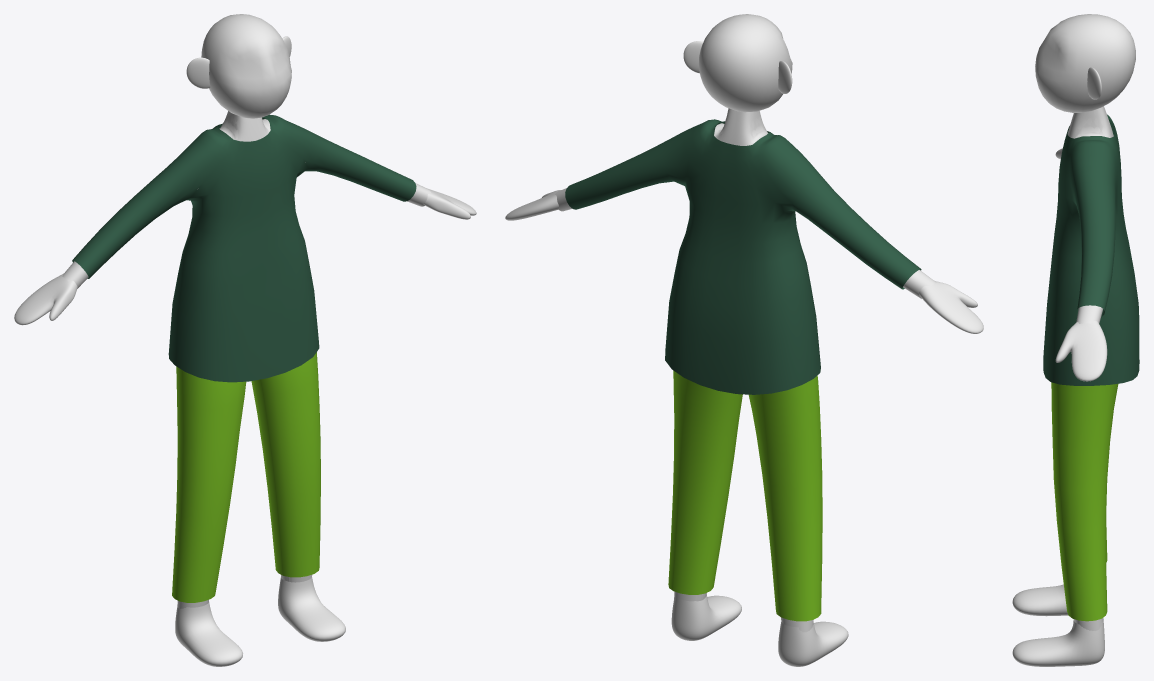
File: base2-clothes.fbx
3 renders of one model, left to right at view 1: azimuth 30°, elevation 25°; view 2: azimuth 150°, elevation 25°; view 3: azimuth 270°, elevation 25°, orthographic. The views are drawn at different scales.
Visible parts, largest first — view 1: jacket, pants, Cube, Cube.005, Cube.004, Cube.003, Cube.001; view 2: jacket, pants, Cube, Cube.005, Cube.004, Cube.003, Cube.001; view 3: jacket, pants, Cube, Cube.005, Cube.004, Cube.003, Cube.007, Cube.001.
Boxes of the visible parts, box(x1,y1,x2,y2) form: jacket: box(72, 114, 416, 382); pants: box(172, 352, 320, 602); Cube: box(201, 14, 291, 118); Cube.005: box(175, 577, 345, 666); Cube.004: box(14, 189, 476, 325); Cube.003: box(62, 111, 430, 608); Cube.001: box(186, 36, 291, 88); jacket: box(565, 119, 921, 394); pants: box(668, 370, 822, 621); Cube: box(698, 14, 792, 112); Cube.005: box(671, 594, 848, 666); Cube.004: box(505, 190, 983, 333); Cube.003: box(555, 108, 936, 632); Cube.001: box(683, 41, 792, 93); jacket: box(1043, 114, 1139, 385); pants: box(1051, 382, 1118, 621); Cube: box(1035, 14, 1135, 112); Cube.005: box(1012, 584, 1104, 666); Cube.004: box(1055, 148, 1107, 381); Cube.003: box(1067, 106, 1113, 630); Cube.007: box(1071, 108, 1109, 627); Cube.001: box(1087, 67, 1101, 99).
Size of the model in its own units: 147 by 188 by 34.9.
